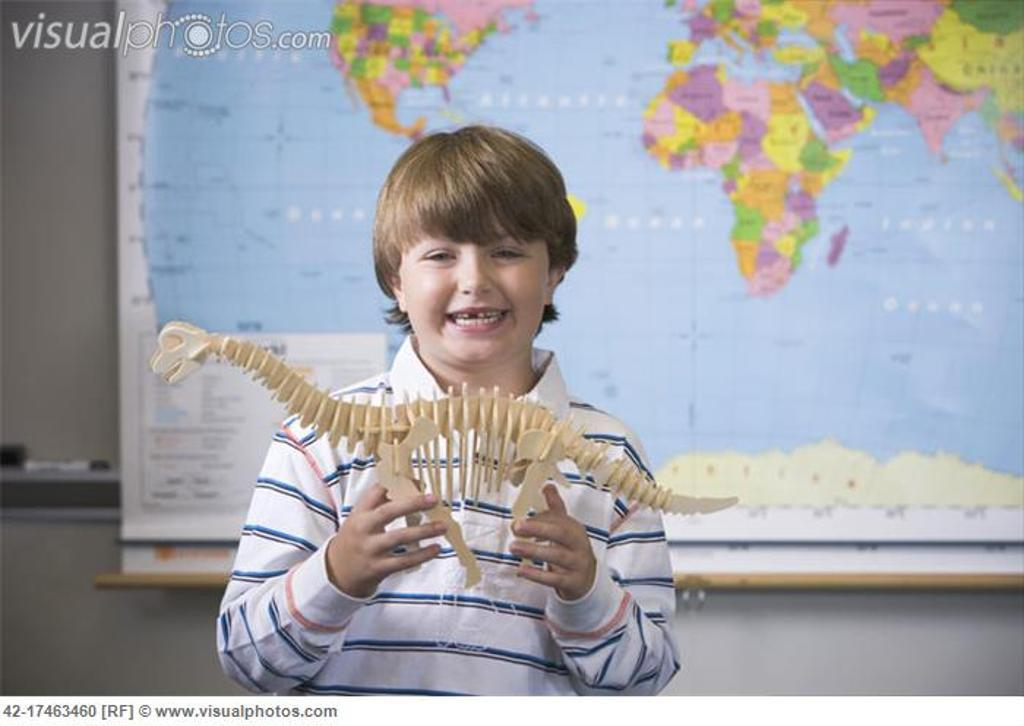face: (409, 215, 551, 363)
